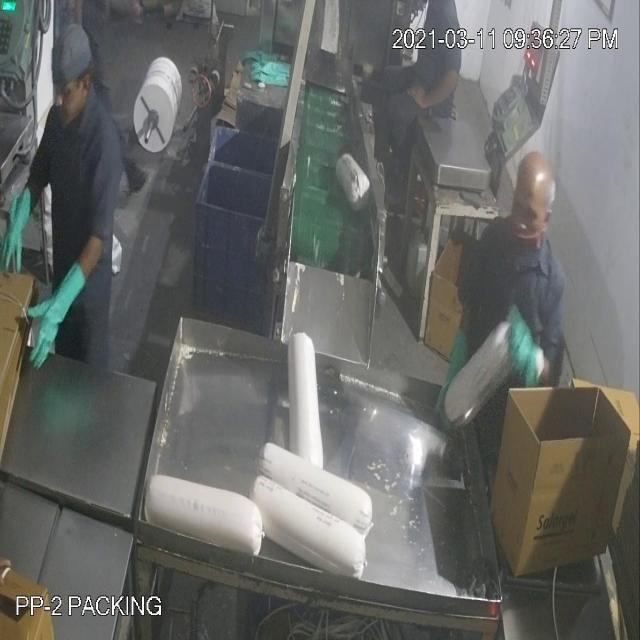Gloves: (56, 68, 434, 320)
